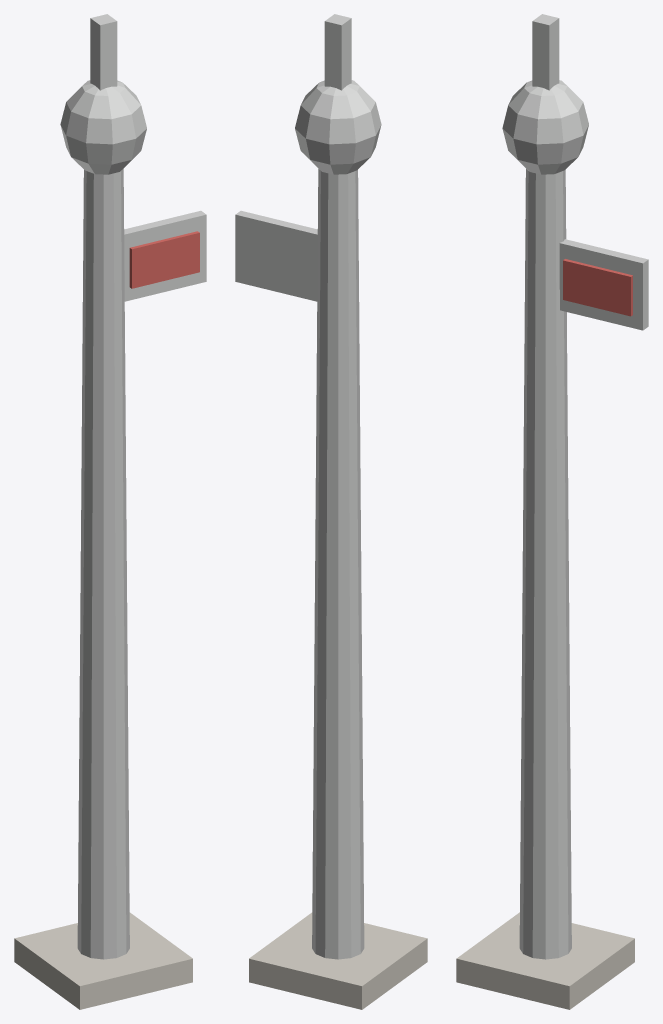
The model's file is scenery-winning-post.glb.
3 views of the same model, side by side, from view 1: azimuth 30°, elevation 25°; view 2: azimuth 150°, elevation 25°; view 3: azimuth 330°, elevation 25° (orthographic).
Parts seen in each view (by area): view 1: winning-post; view 2: winning-post; view 3: winning-post.
Part boxes in pixels (box(x1,y1,x2,y2)): winning-post: box(14, 14, 206, 1009); winning-post: box(235, 14, 427, 1009); winning-post: box(456, 14, 648, 1009).
Bounding box in the file's own units: 0.8299 × 4.82 × 0.6.
